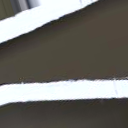crackTip: (1, 1, 128, 85)
